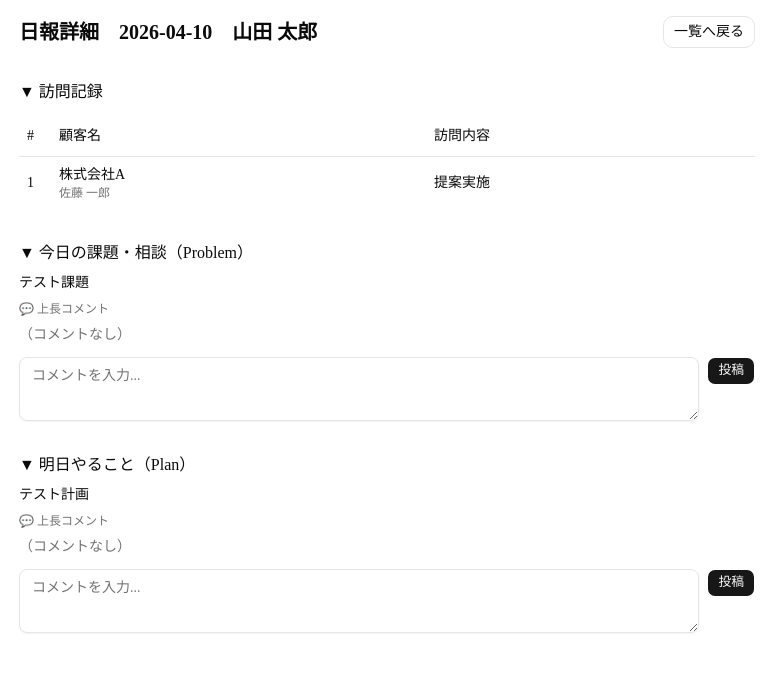
SCR-T-004-6: Problemへのコメント投稿 › コメントを入力して投稿するとコメントが一覧に追加され入力欄がクリアされる
This screenshot has width=772, height=688.
Type "新しいコメント" into the text box with placeholder "コメントを入力..." below "テスト課題" at [359, 388], box [19, 356, 699, 420]
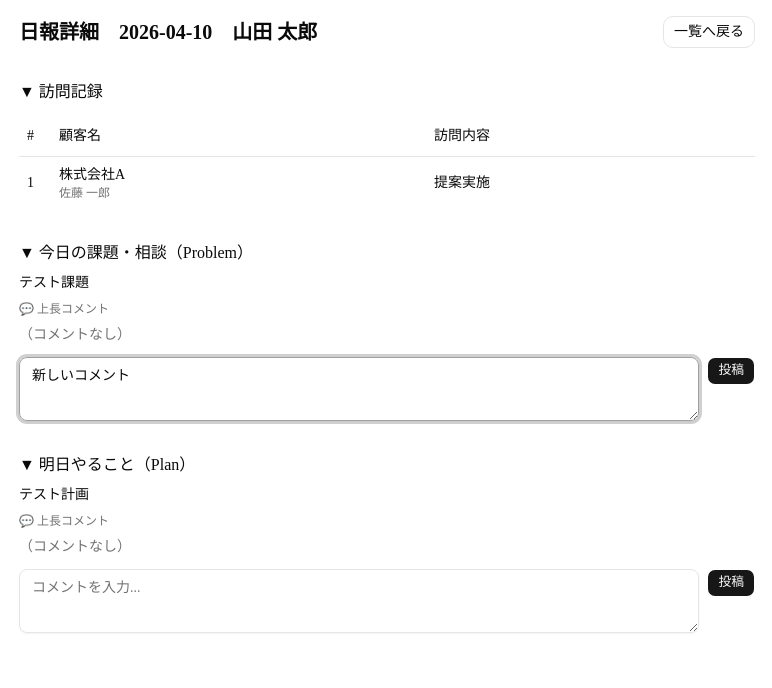
Click the 1st button "投稿" at [731, 370], box [707, 356, 755, 384]
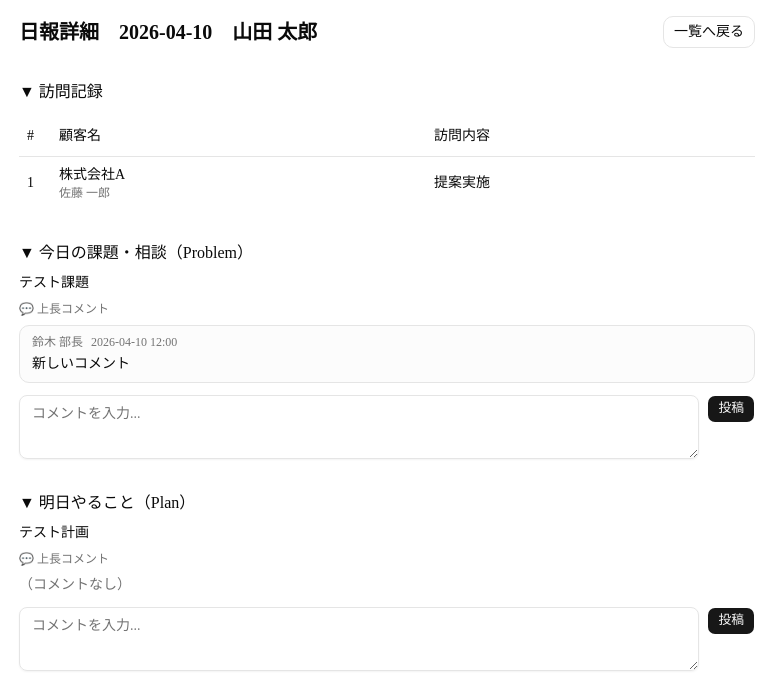
Expected: the text "新しいコメント" is shown, [32, 356, 130, 370]
Expected: the text box with placeholder "コメントを入力..." below "新しいコメント" is empty, [19, 394, 699, 458]
